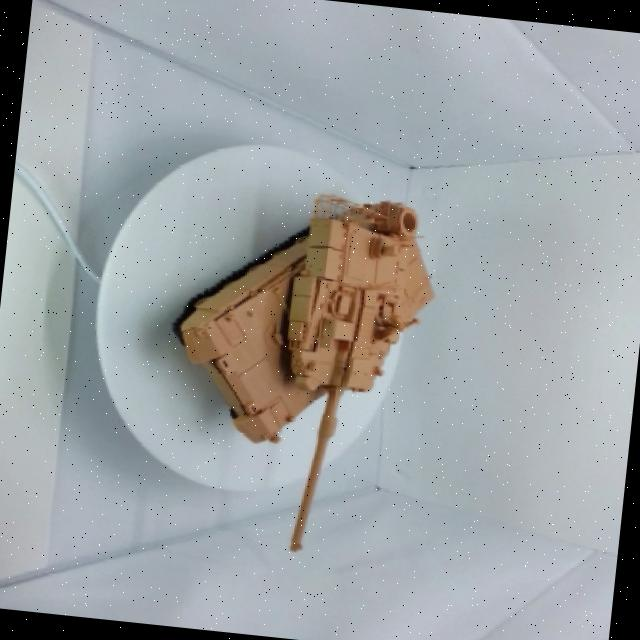korea tank: (125, 157, 476, 579)
